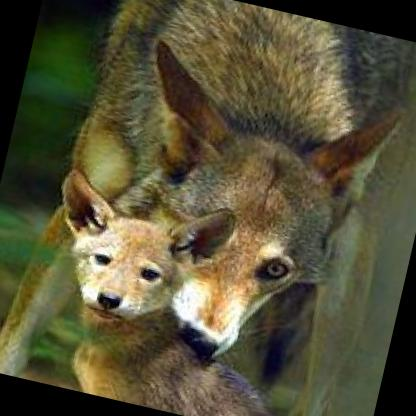dhole: (0, 0, 416, 416), (11, 159, 317, 416)
